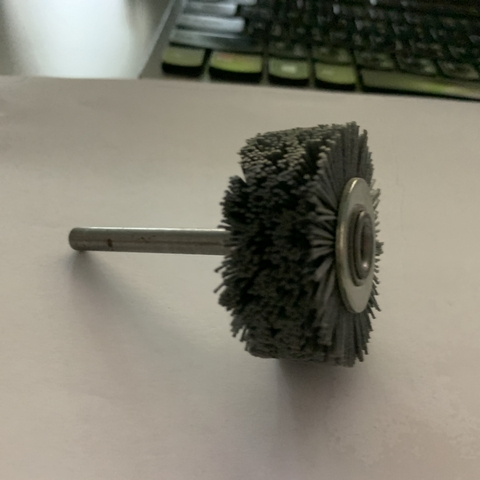Wheel Brush: (102, 103, 408, 379), (67, 119, 381, 373), (31, 130, 356, 361)
